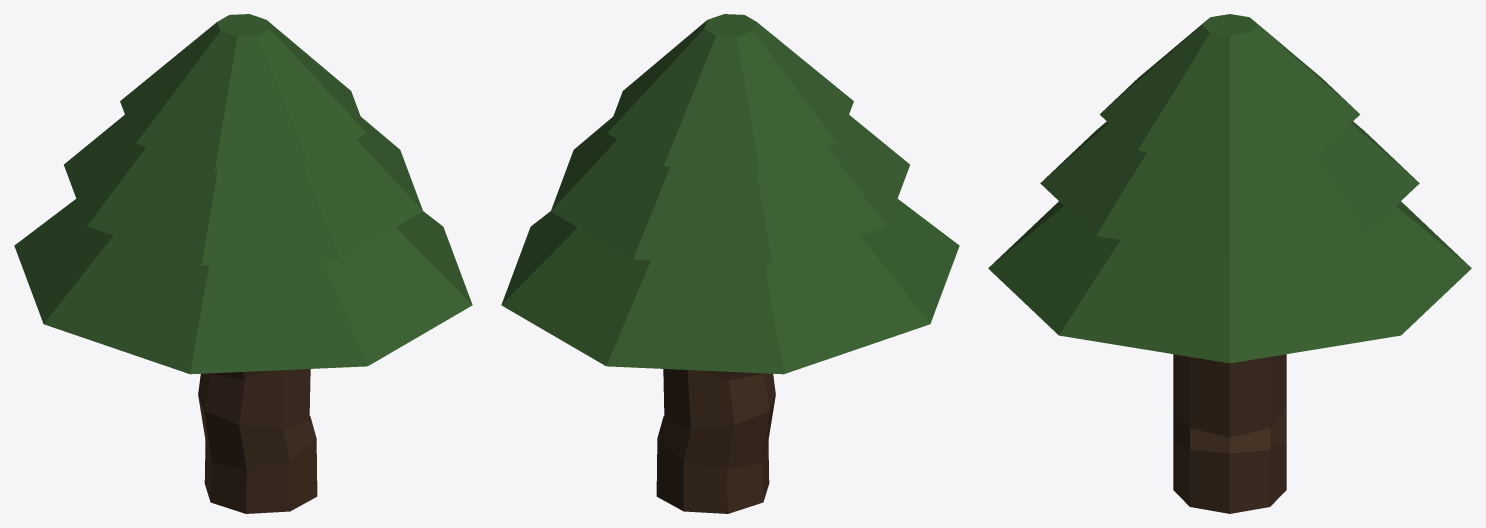
File: Pino.fbx
The picture shows the model from 3 angles, left to right: view 1: azimuth 30°, elevation 25°; view 2: azimuth 150°, elevation 25°; view 3: azimuth 270°, elevation 25°; orthographic projection. The views are drawn at different scales.
Parts seen in each view (by area): view 1: Cylinder.027; view 2: Cylinder.027; view 3: Cylinder.027.
Boxes of the visible parts, x1,y1,x2,y2 form: Cylinder.027: (14,14,472,513); Cylinder.027: (501,14,959,513); Cylinder.027: (988,14,1471,513).
Bounding box in the file's own units: 94.14 × 106 × 101.
